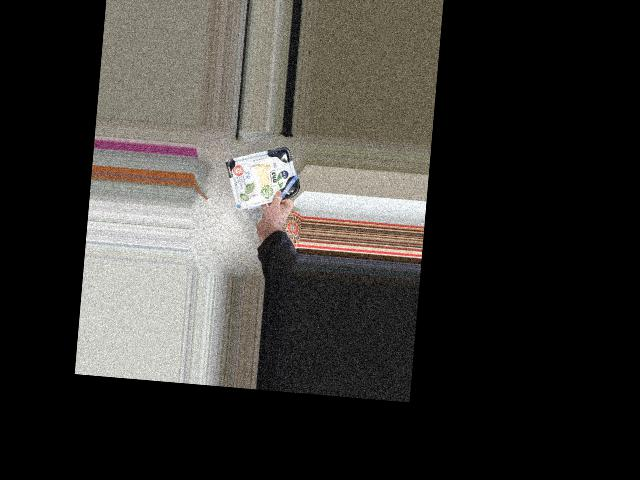cheese: (231, 152, 295, 204)
